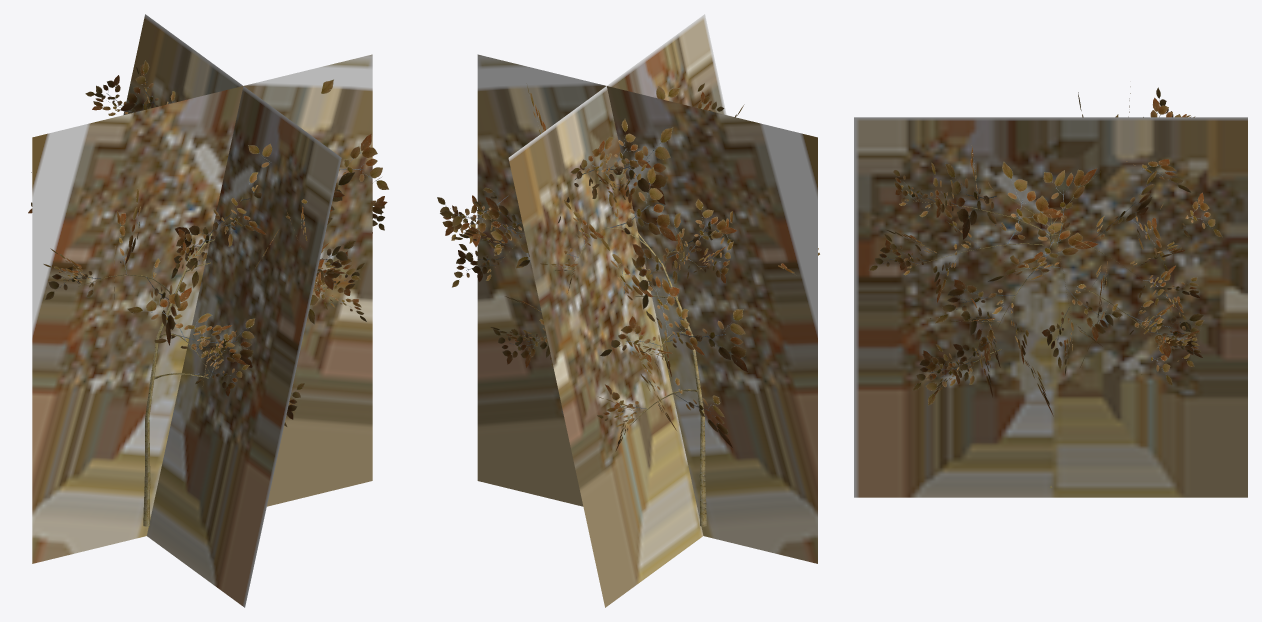
The model's file is Shrub1-2C.fbx.
3 renders of one model, left to right at view 1: azimuth 30°, elevation 25°; view 2: azimuth 150°, elevation 25°; view 3: azimuth 270°, elevation 25°, orthographic.
Visible parts, largest first — view 1: Billboard-Shrub1-2C, Shrub1-2C_LOD0; view 2: Billboard-Shrub1-2C, Shrub1-2C_LOD0; view 3: Billboard-Shrub1-2C, Shrub1-2C_LOD0.
Boxes of the visible parts, <box> form: Billboard-Shrub1-2C: <box>32,14,372,607</box>; Shrub1-2C_LOD0: <box>28,60,388,526</box>; Billboard-Shrub1-2C: <box>477,14,817,607</box>; Shrub1-2C_LOD0: <box>437,83,819,526</box>; Billboard-Shrub1-2C: <box>854,117,1247,497</box>; Shrub1-2C_LOD0: <box>869,86,1222,487</box>.
Size of what is drawn, in the model's own units: 319 by 363 by 292.
